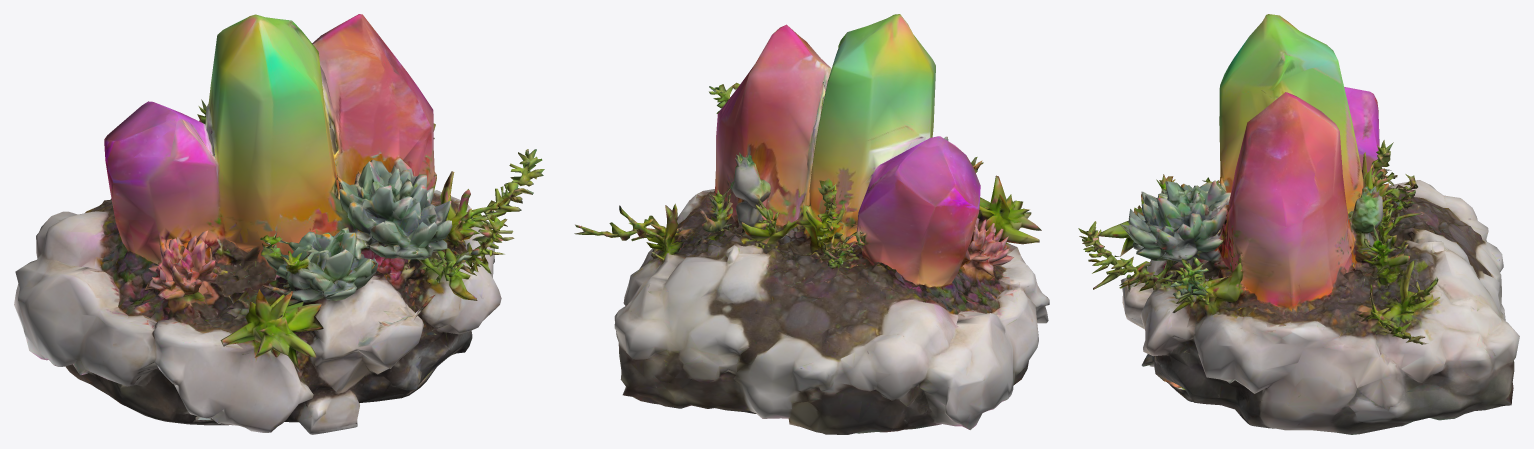
Rendered from a_large_rainbow_cryst.glb.
The picture shows the model from 3 angles, left to right: view 1: azimuth 30°, elevation 25°; view 2: azimuth 150°, elevation 25°; view 3: azimuth 270°, elevation 25°; orthographic projection. The views are drawn at different scales.
Visible parts, largest first — view 1: a_large_rainbow_cryst; view 2: a_large_rainbow_cryst; view 3: a_large_rainbow_cryst.
Part boxes in pixels (bbox=[...]): a_large_rainbow_cryst: bbox=[14, 14, 544, 434]; a_large_rainbow_cryst: bbox=[574, 14, 1049, 434]; a_large_rainbow_cryst: bbox=[1078, 14, 1519, 434].
Bounding box in the file's own units: 1.98 × 1.65 × 1.93.
Materials: 1 (1 with a texture image).
